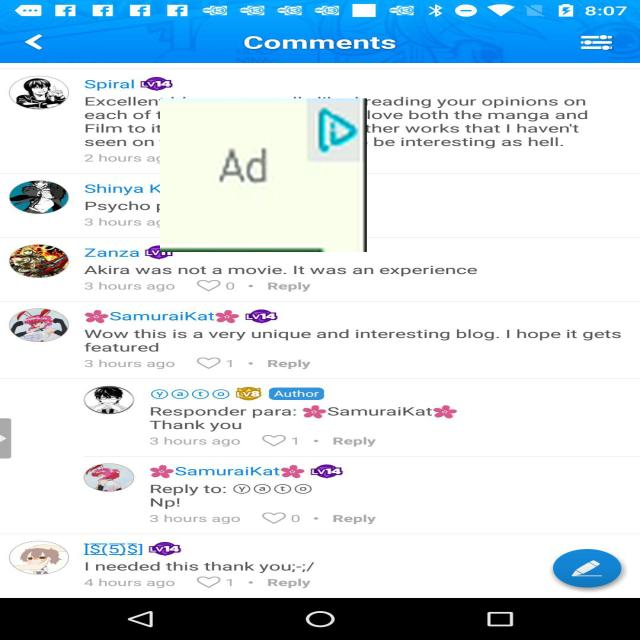sneaking: (160, 98, 367, 252)
